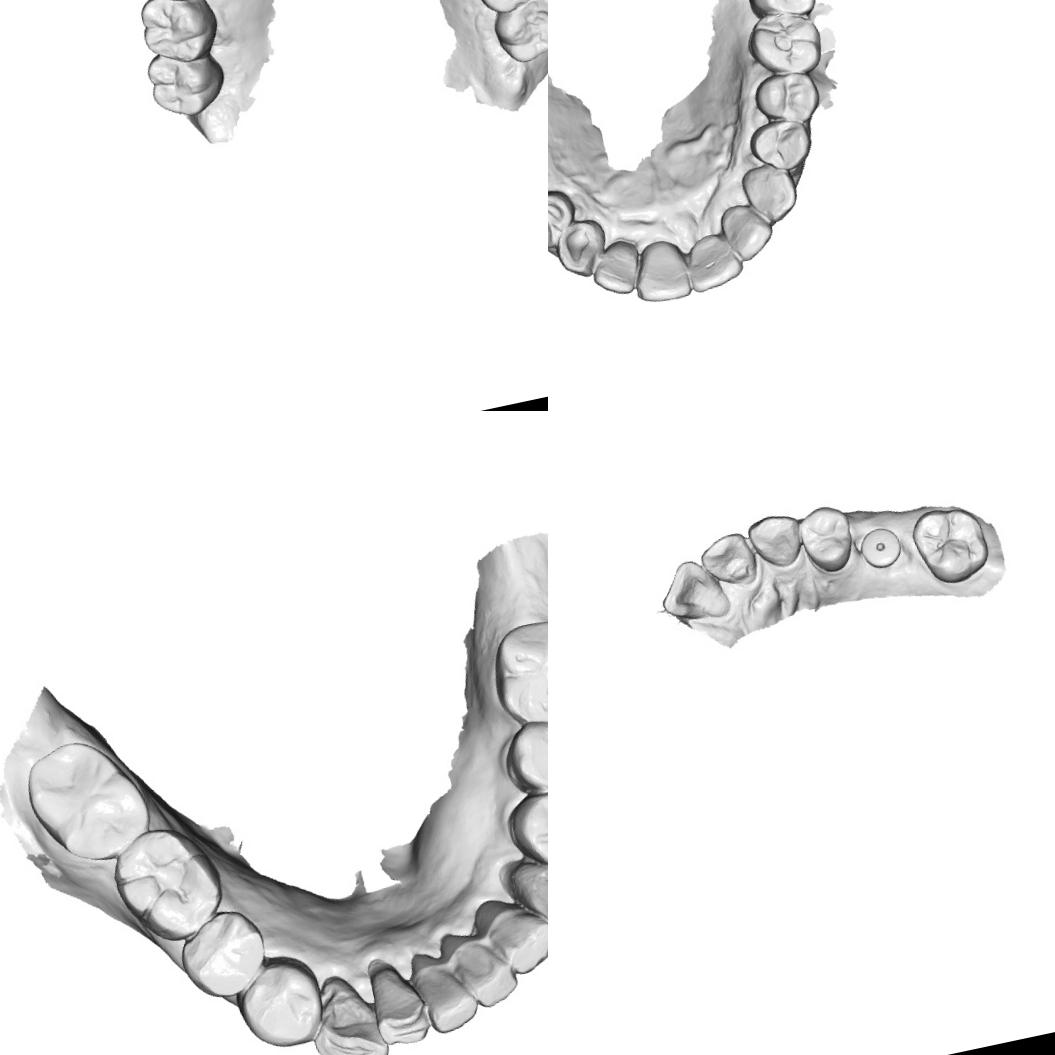canine: (299, 966, 393, 1055), (736, 157, 804, 229), (550, 216, 615, 284), (744, 508, 808, 576), (506, 849, 548, 946)
implant: (854, 522, 907, 574)
incisor: (366, 953, 436, 1052), (412, 944, 484, 1038), (448, 924, 522, 1015), (652, 552, 736, 632), (478, 891, 548, 981), (626, 234, 696, 309), (681, 227, 747, 297), (694, 526, 760, 596), (584, 234, 647, 304), (716, 198, 776, 266)
molar: (15, 726, 158, 873), (104, 814, 235, 951), (904, 494, 997, 594), (485, 610, 548, 738), (741, 6, 828, 84), (133, 0, 224, 72), (144, 47, 222, 122), (489, 0, 548, 67), (739, 0, 821, 23), (464, 0, 548, 20)
premolar: (170, 900, 278, 1006), (231, 953, 327, 1055), (793, 498, 861, 580), (747, 65, 826, 133), (743, 114, 818, 181), (498, 710, 548, 802), (502, 783, 548, 882), (548, 184, 584, 256)
